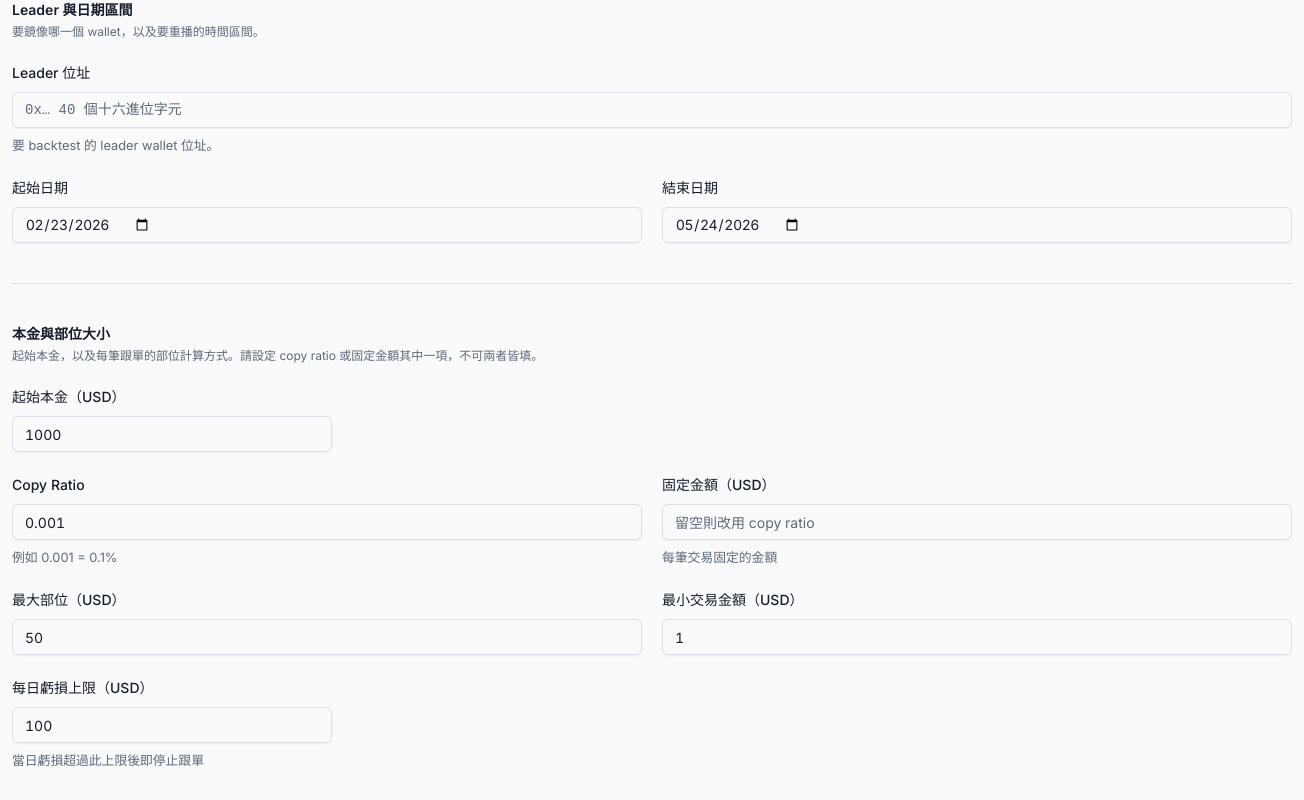
Scenario: BacktestForm (zod validation + server action) › rejects when start_date is not before end_date
Step 1. Type "0xabcabcabcabc" into the field labelled "Leader 位址" → (652,110), box [12,92,1292,128]
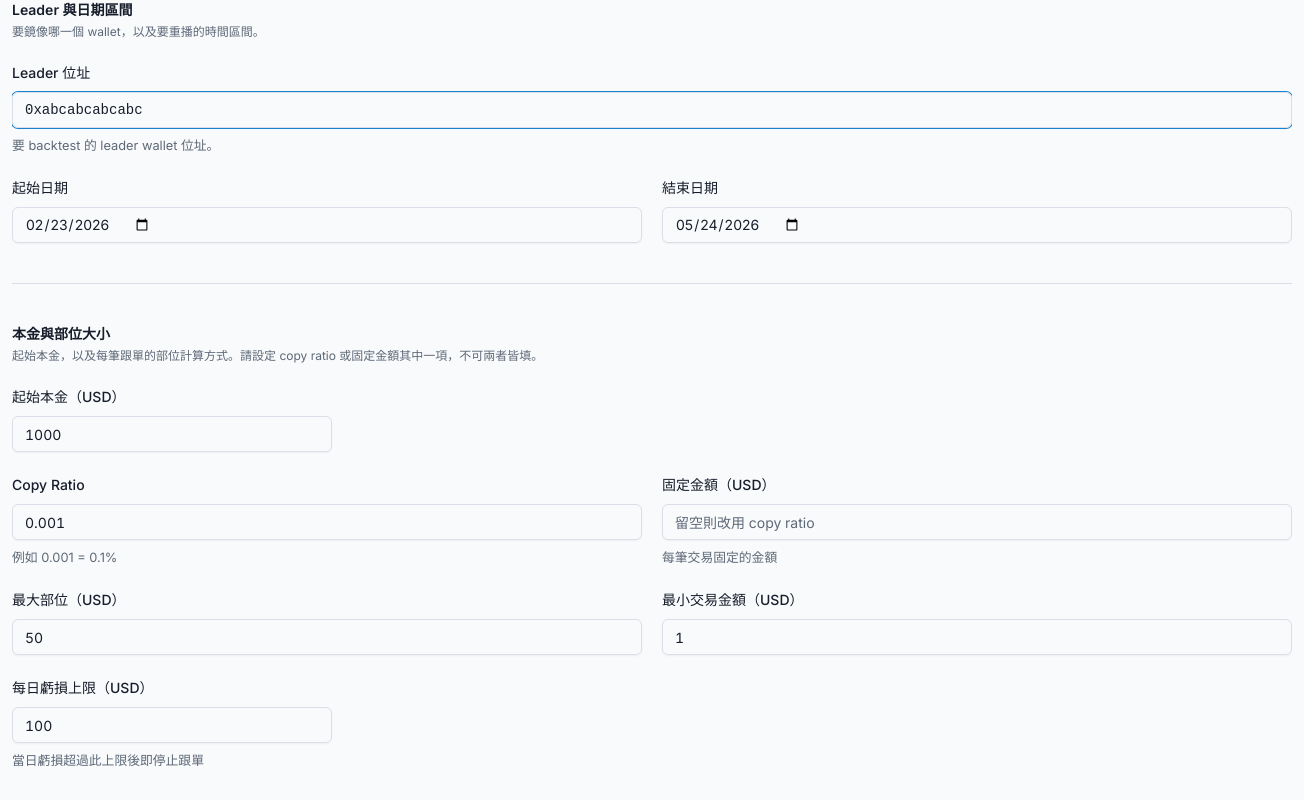
// Date inputs: set start after end
Step 2. Type "2025-12-31" into the date field labelled "起始日期" → (327,225), box [12,207,642,243]
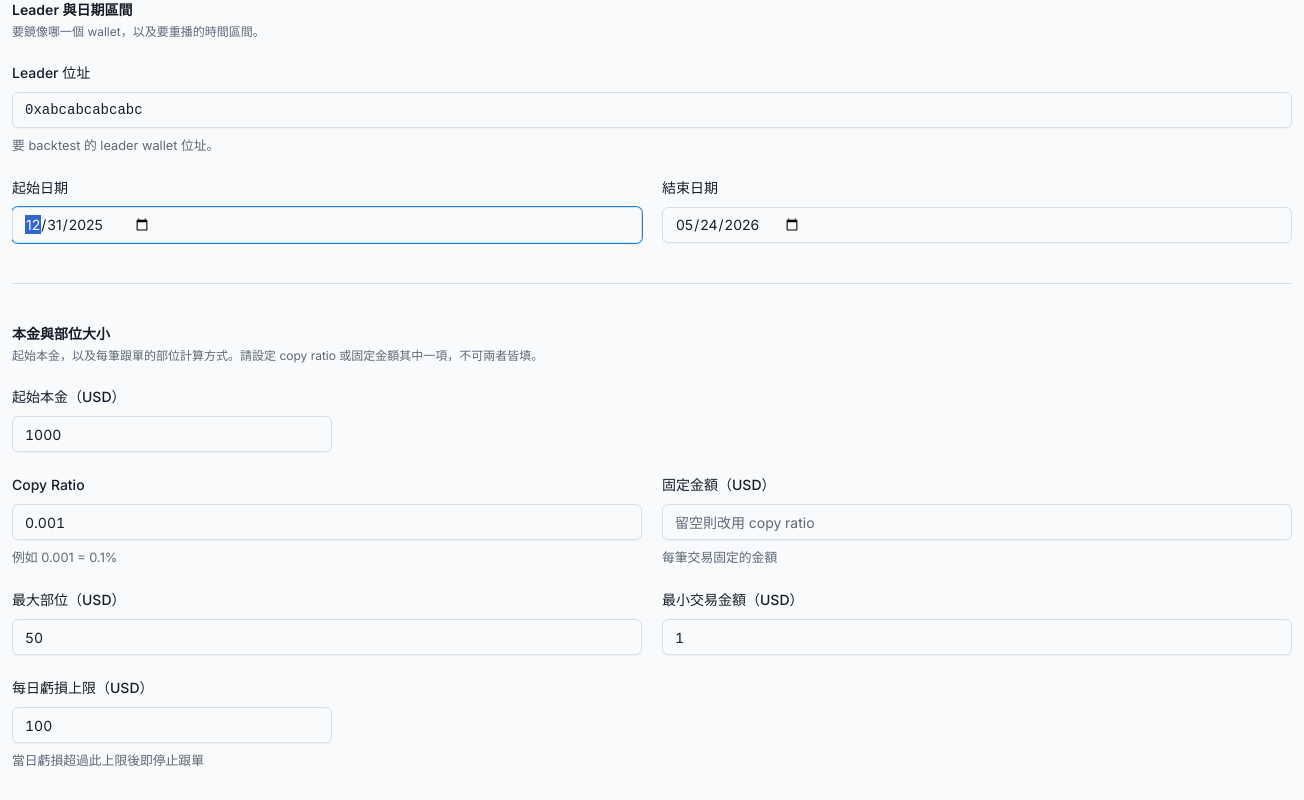
Step 3. Type "2025-01-01" into the date field labelled "結束日期" → (977,225), box [662,207,1292,243]
(page scrolled)
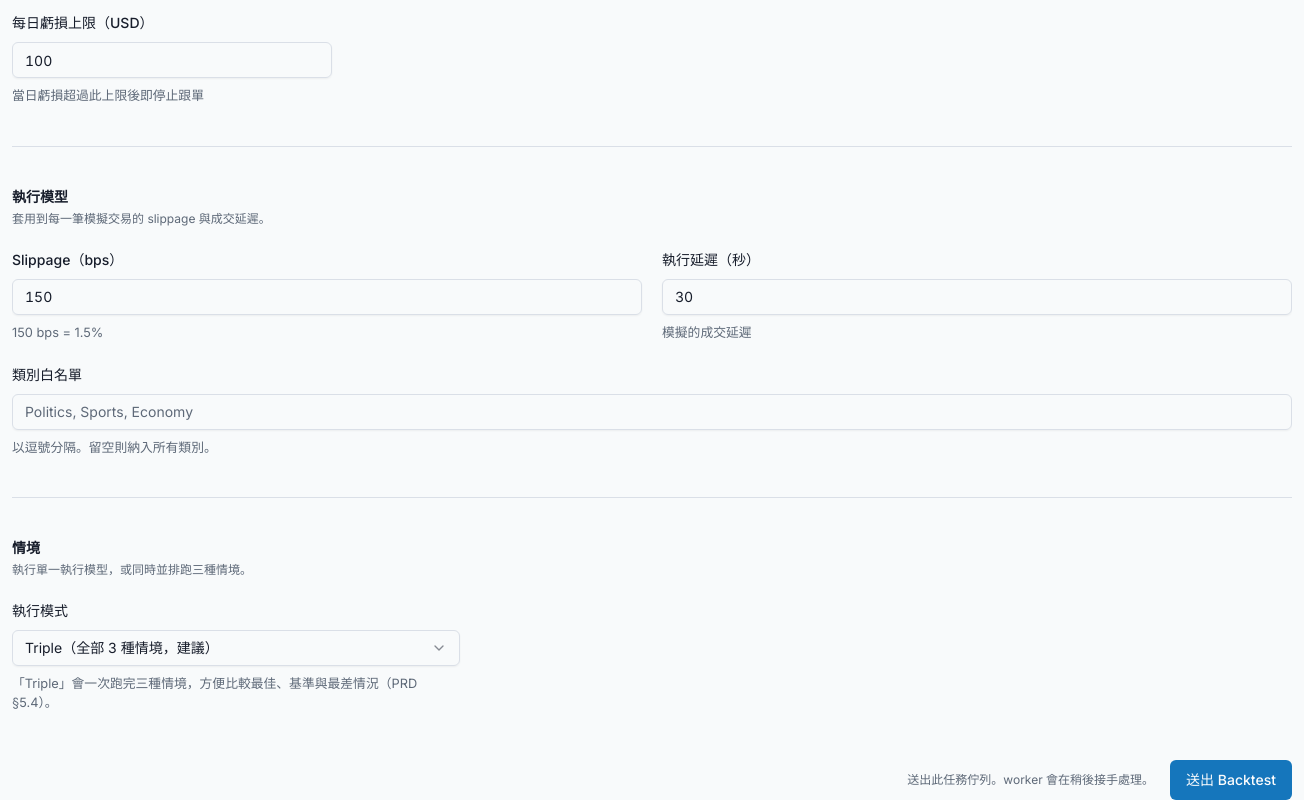
Step 4. Click the button "送出 Backtest" → (1231,780), box [1170,760,1292,799]
(page scrolled)
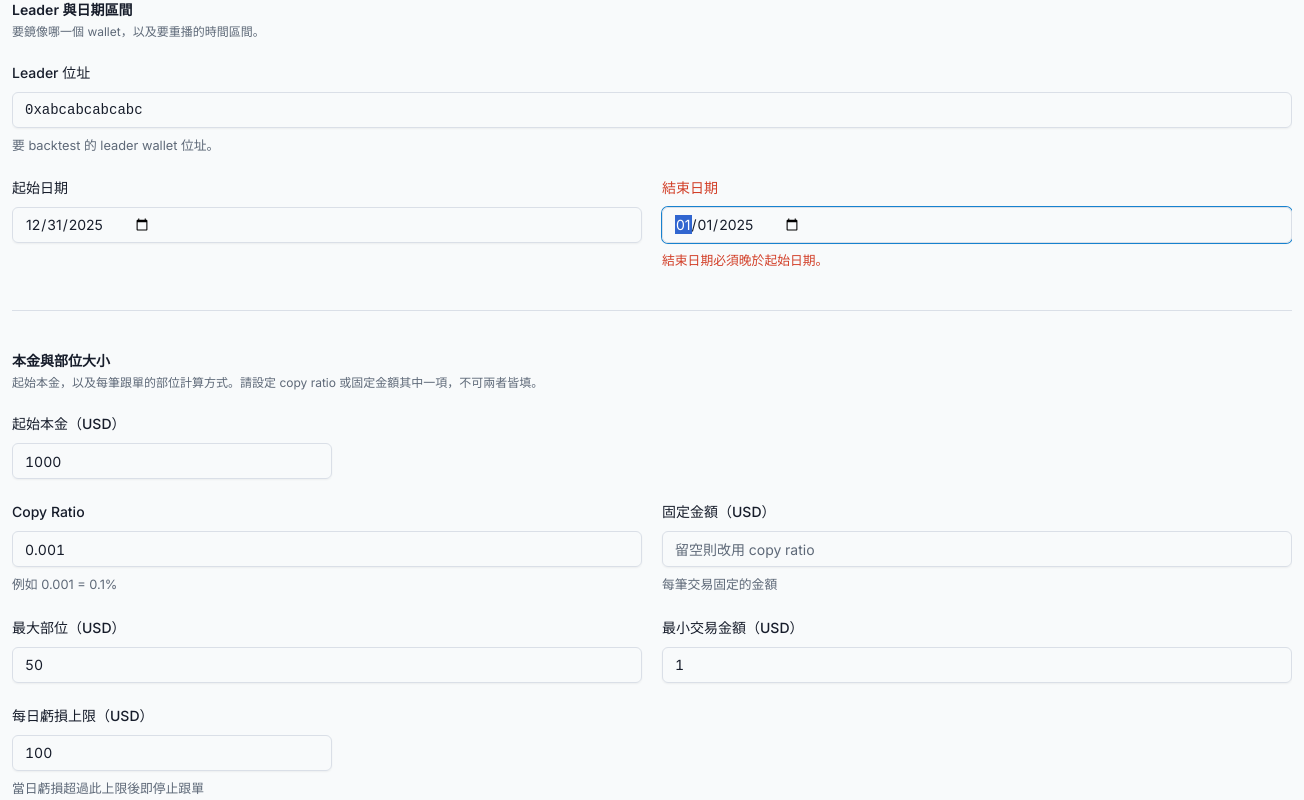
Now the text "結束日期必須晚於起始日期。" is shown, box [662,253,828,268]
